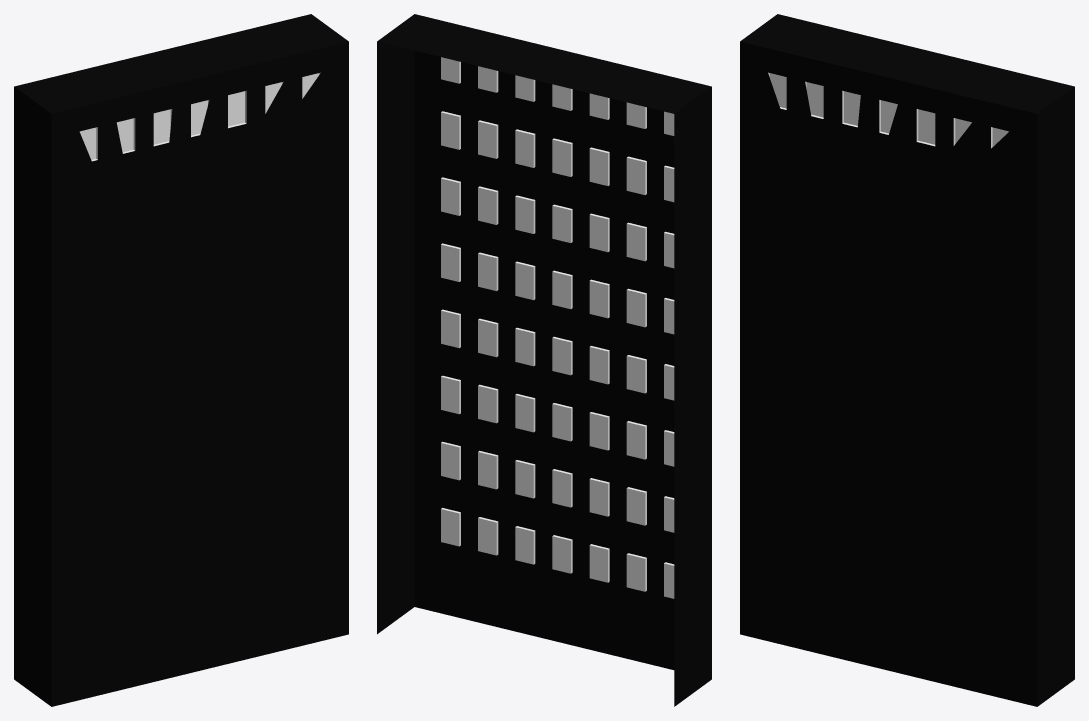
The model's file is background-blok.fbx.
The picture shows the model from 3 angles, left to right: view 1: azimuth 30°, elevation 25°; view 2: azimuth 150°, elevation 25°; view 3: azimuth 330°, elevation 25°; orthographic projection.
Visible parts, largest first — view 1: Cube; view 2: Cube; view 3: Cube.
Part boxes in pixels (<box>): Cube: <box>14,14,348,706</box>; Cube: <box>377,14,711,706</box>; Cube: <box>740,14,1074,706</box>.
Size of the model in its own units: 3200 by 6100 by 700.
1 material, 1 textured.
